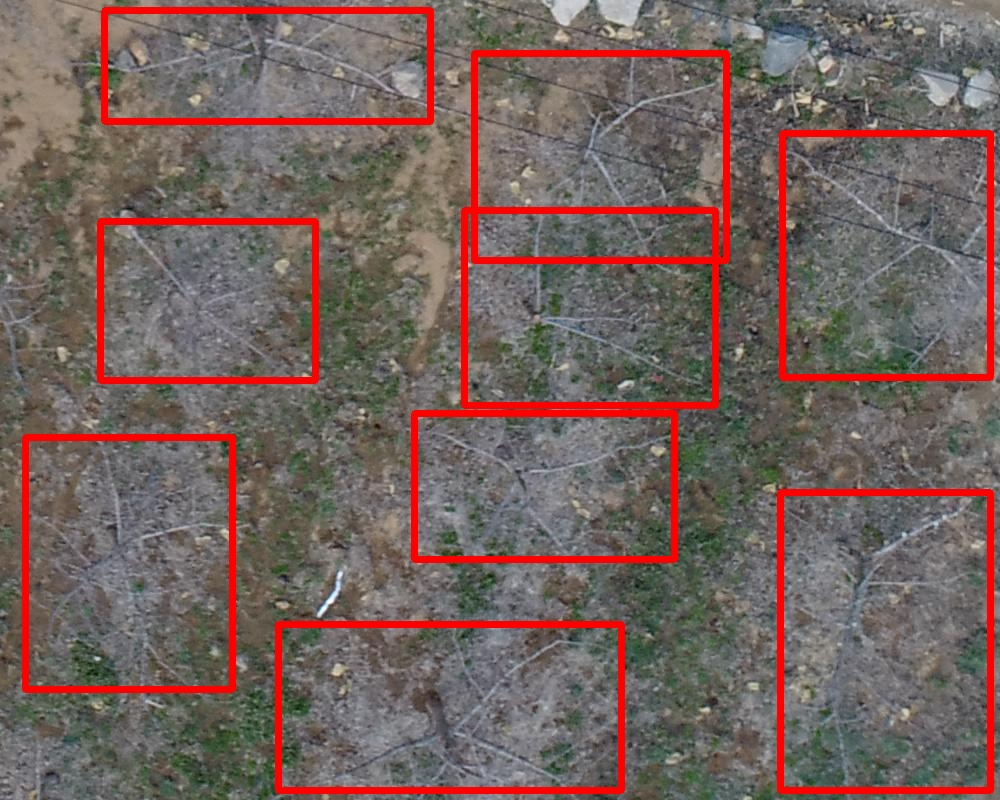apple: (780, 492, 990, 790), (278, 624, 621, 790), (474, 53, 726, 260), (25, 437, 232, 689), (782, 133, 990, 377), (464, 210, 715, 405), (414, 413, 674, 559), (104, 10, 430, 121), (100, 221, 315, 380)
